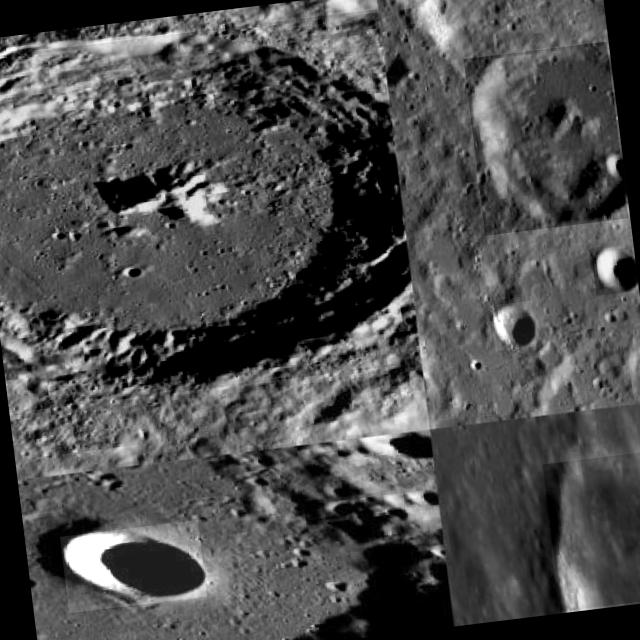crater: (0, 8, 419, 412), (463, 41, 628, 235), (542, 450, 640, 611), (60, 520, 206, 612), (489, 300, 537, 351), (590, 247, 636, 296), (608, 153, 625, 187)
